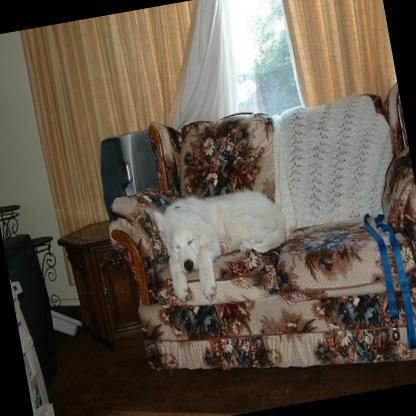Great_Pyrenees: (151, 178, 296, 306)
